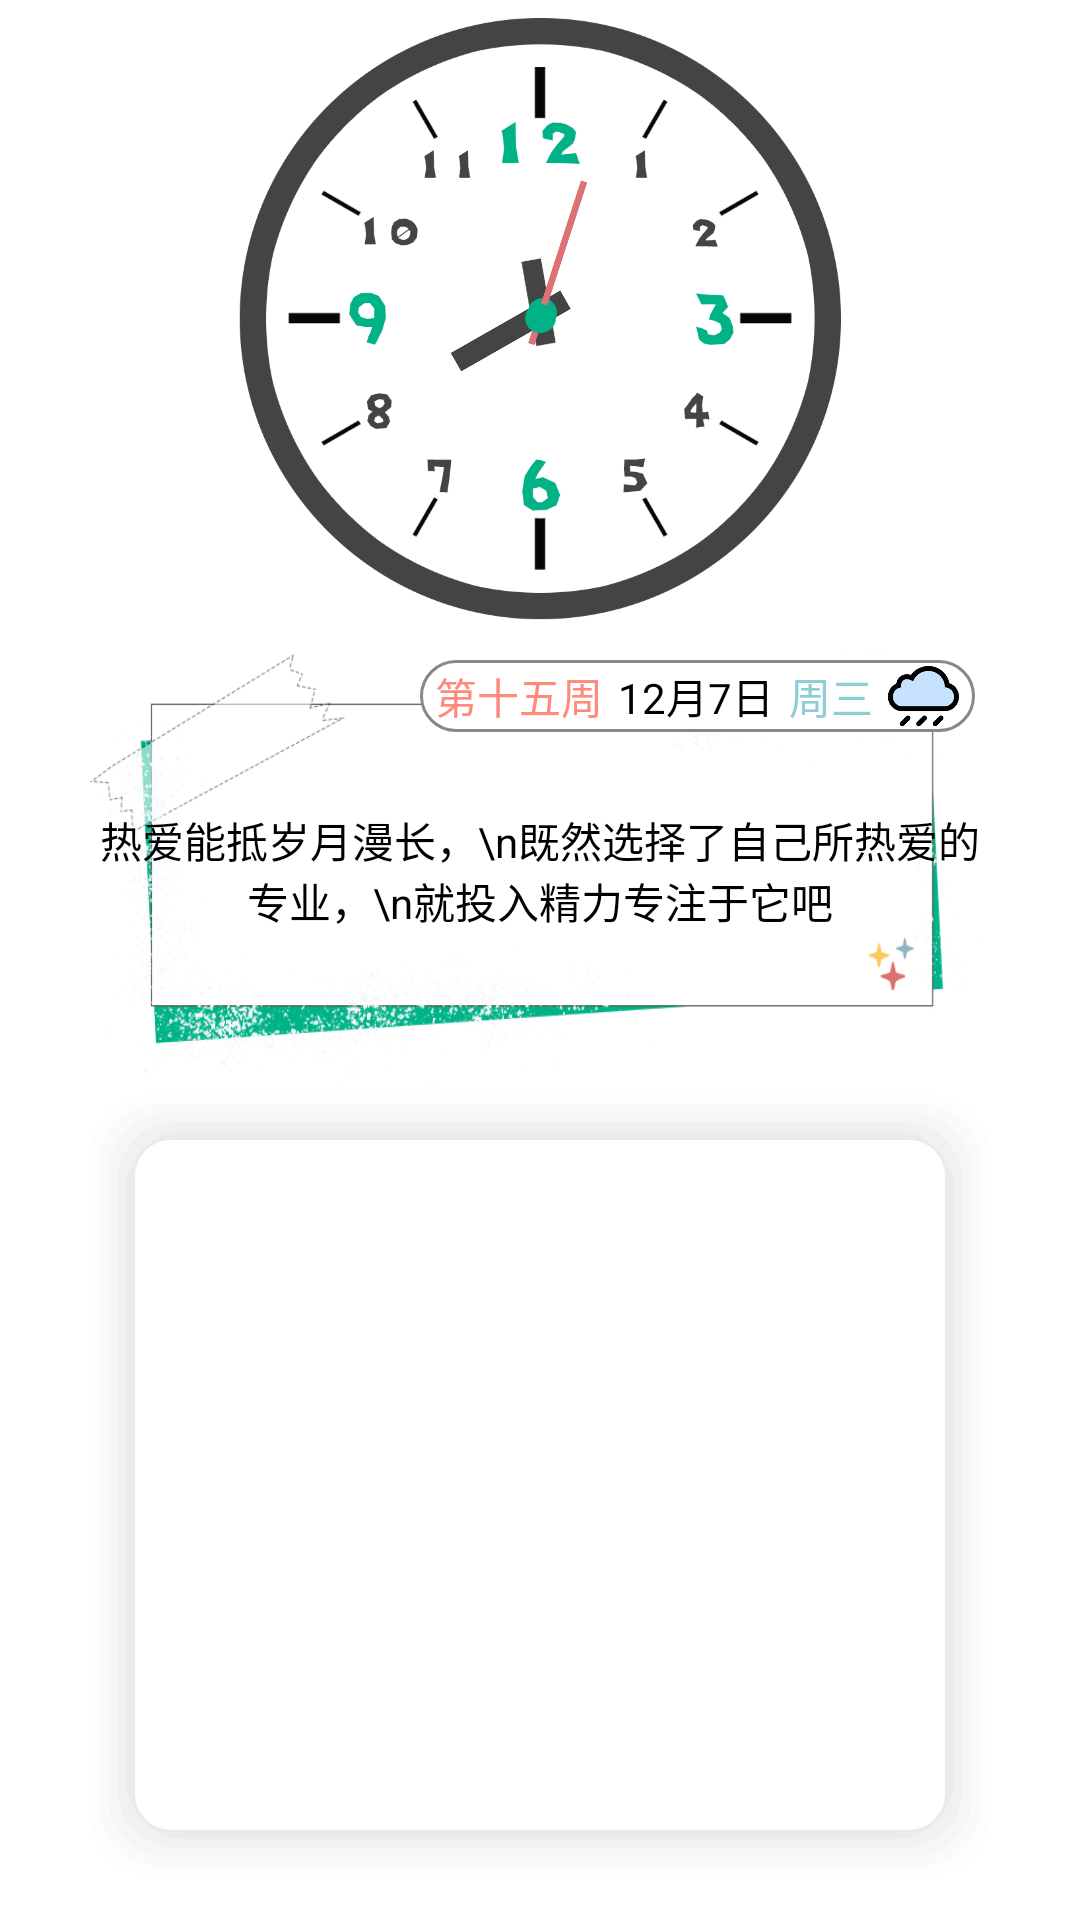

Icons on this 1080x1920 Android screen, each with its box as (x1, y1, x2, y2):
rain: (888, 666, 959, 726)
